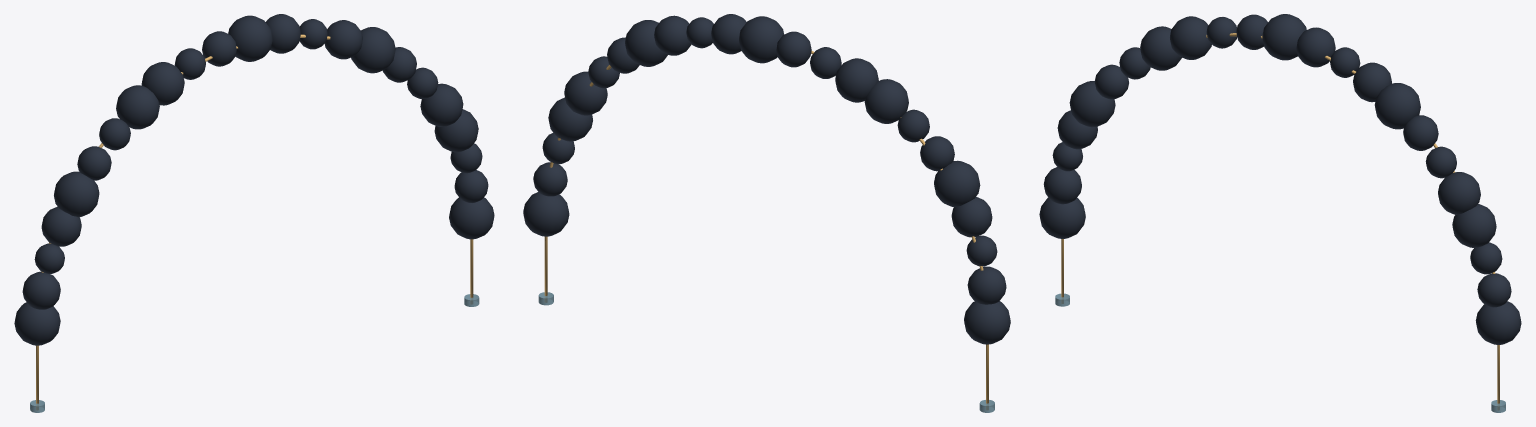
Rendered from threshold-bubble-arch-c-lod0.glb.
3 views of the same model, side by side, from view 1: azimuth 30°, elevation 25°; view 2: azimuth 150°, elevation 25°; view 3: azimuth 330°, elevation 25° (orthographic).
Visible parts, largest first — view 1: frame; view 2: frame; view 3: frame.
Part boxes in pixels (x1,y1,x2,y2): frame: [14, 14, 494, 412]; frame: [523, 14, 1010, 412]; frame: [1039, 14, 1521, 412].
Size of the model in its own units: 17.59 by 11.89 by 2.08.
